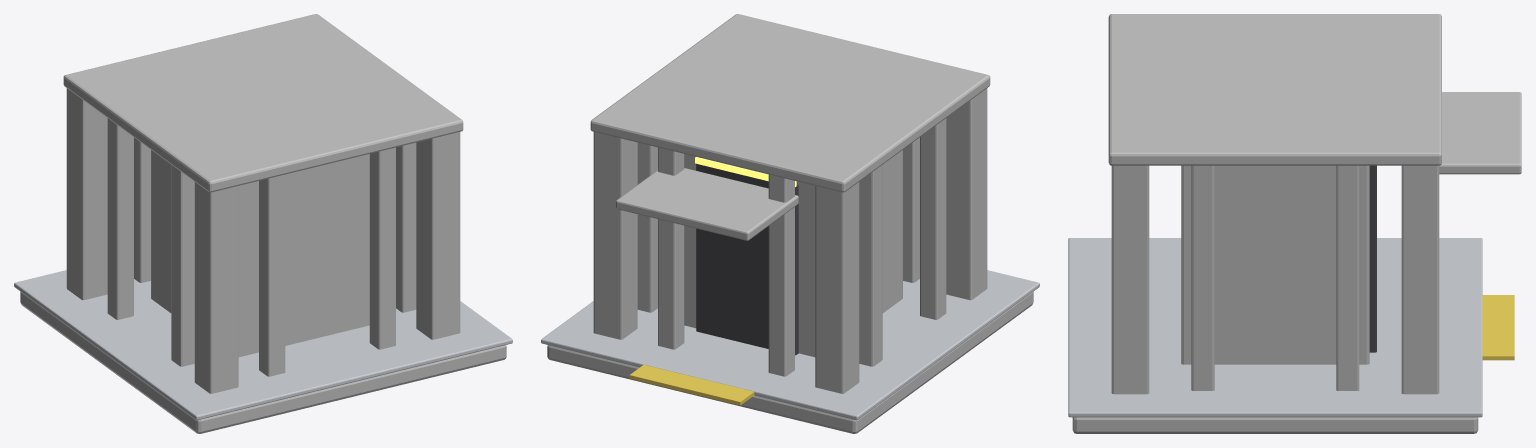
The model's file is base_2x2_concrete.glb.
3 renders of one model, left to right at view 1: azimuth 30°, elevation 25°; view 2: azimuth 150°, elevation 25°; view 3: azimuth 270°, elevation 25°, orthographic. The views are drawn at different scales.
Parts seen in each view (by area): view 1: int_columns, ext_ledge, int_slab_edge, ext_lobby, int_slab; view 2: int_columns, ext_ledge, int_slab_edge, ext_entrance, ext_lobby, ext_canopy, int_slab, ext_hazard, ext_entrance_glow; view 3: ext_ledge, int_slab_edge, ext_lobby, int_columns, int_slab, ext_canopy, ext_hazard, ext_entrance.
Boxes of the visible parts, x1,y1,x2,y2 form: int_columns: (66,88,460,393); ext_ledge: (63,14,463,192); int_slab_edge: (14,270,512,420); ext_lobby: (151,150,369,357); int_slab: (20,291,506,433); int_columns: (593,88,987,393); ext_ledge: (590,14,990,192); int_slab_edge: (541,270,1039,420); ext_entrance: (696,164,798,355); ext_lobby: (684,150,902,357); ext_canopy: (616,168,798,240); int_slab: (547,291,1033,433); ext_hazard: (629,365,754,405); ext_entrance_glow: (695,157,796,186); ext_ledge: (1108,14,1441,165); int_slab_edge: (1068,238,1482,417); ext_lobby: (1181,165,1369,364); int_columns: (1111,165,1439,394); int_slab: (1072,417,1478,433); ext_canopy: (1439,92,1521,174); ext_hazard: (1482,295,1514,360); ext_entrance: (1369,165,1376,352).
Bounding box in the file's own units: 2.86 × 2.03 × 3.13.
